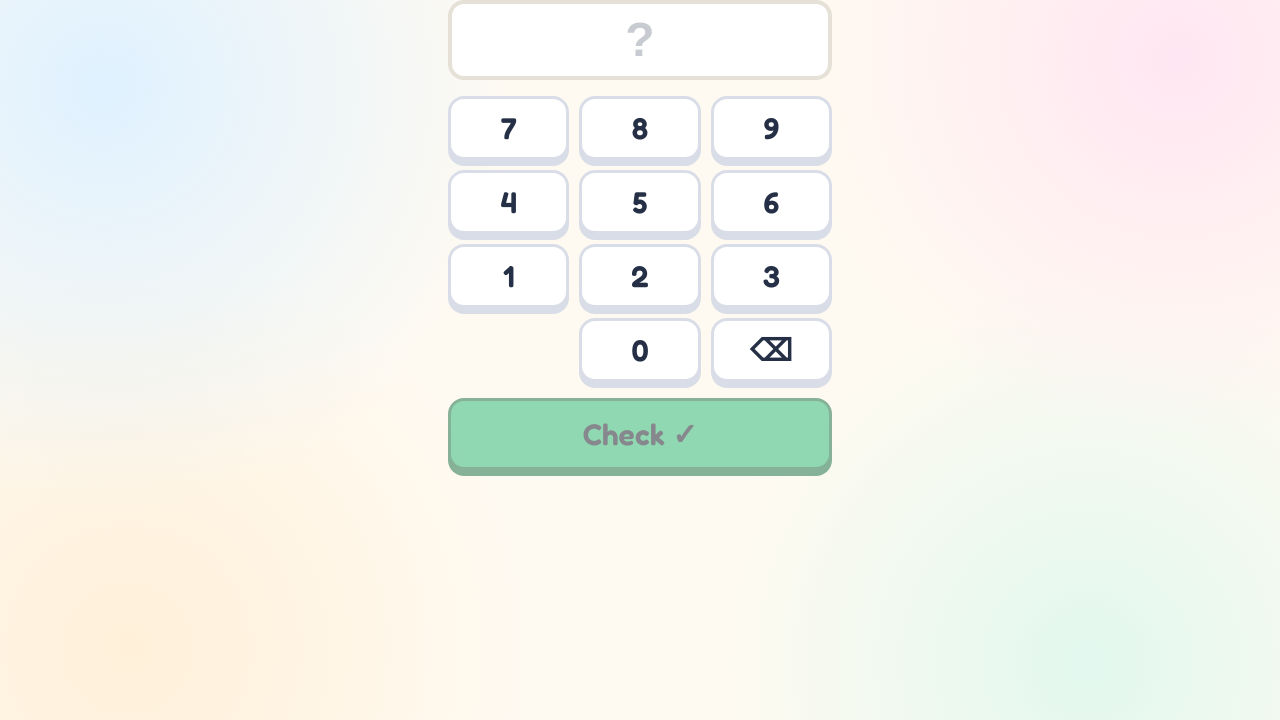
InputQuestion › clears the box after a wrong answer
This screenshot has width=1280, height=720.
Click the button "9".
click(771, 128)  # box [711, 96, 832, 160]
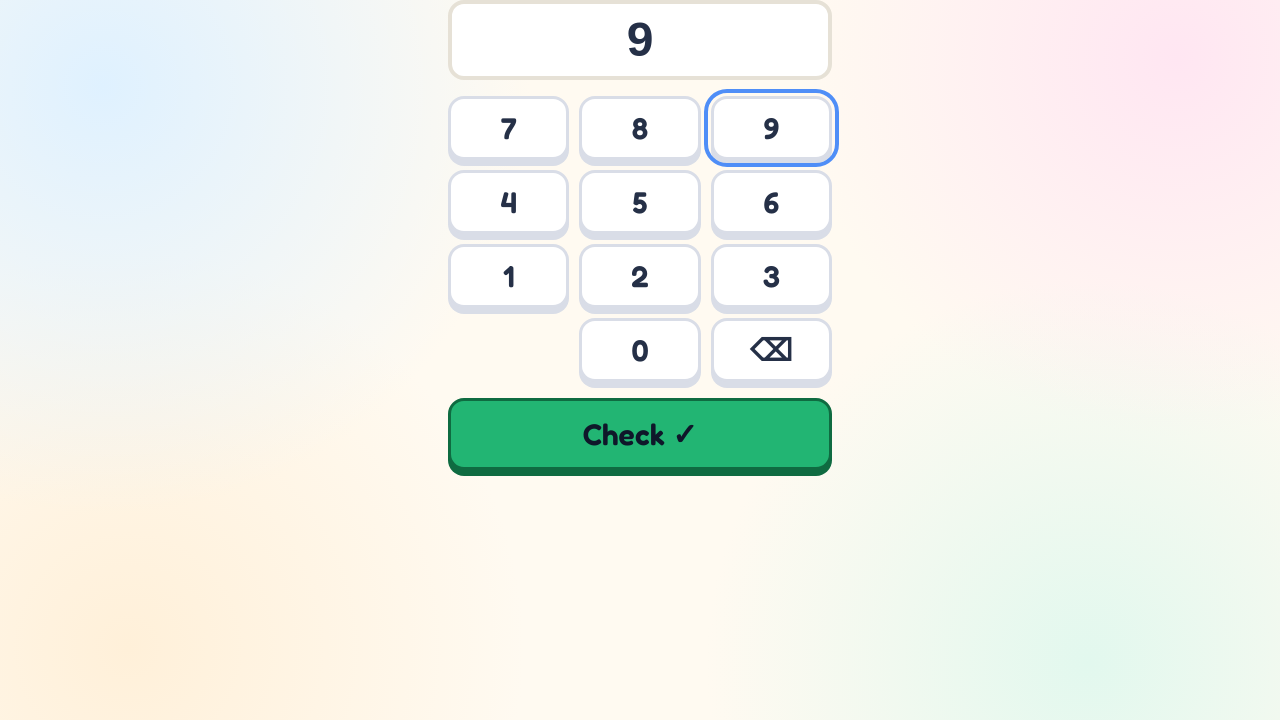
Click the button "Check ✓".
click(640, 434)  # box [448, 398, 832, 470]
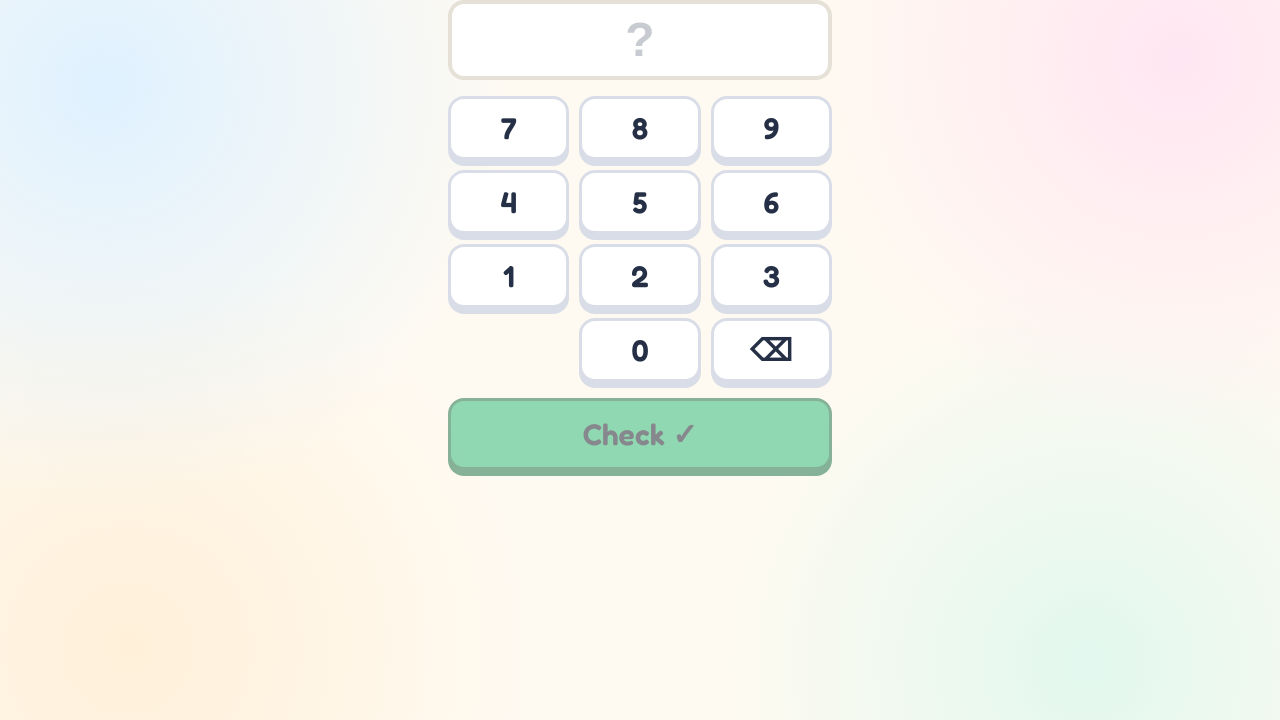
Check: the element named "Your answer: empty" is shown, box [448, 0, 832, 80]
